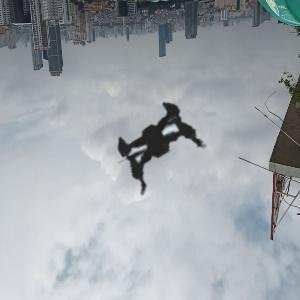drone: (17, 14, 279, 276)
